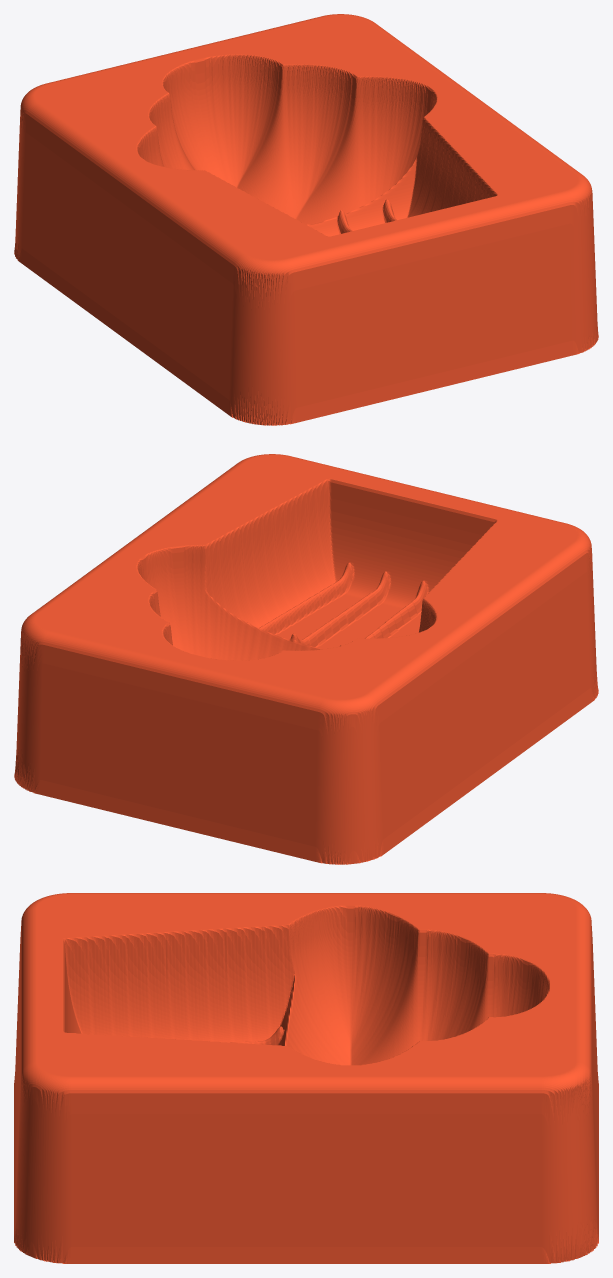
The model's file is mold.glb.
3 views of the same model, one above another, from view 1: azimuth 30°, elevation 25°; view 2: azimuth 150°, elevation 25°; view 3: azimuth 270°, elevation 25° (orthographic). The views are drawn at different scales.
Parts seen in each view (by area): view 1: geometry_0; view 2: geometry_0; view 3: geometry_0.
Part boxes in pixels (<box>): geometry_0: <box>14,14,598,425</box>; geometry_0: <box>14,454,598,864</box>; geometry_0: <box>14,893,598,1263</box>.
Size of the model in its own units: 0.0752 by 0.031 by 0.0924.
